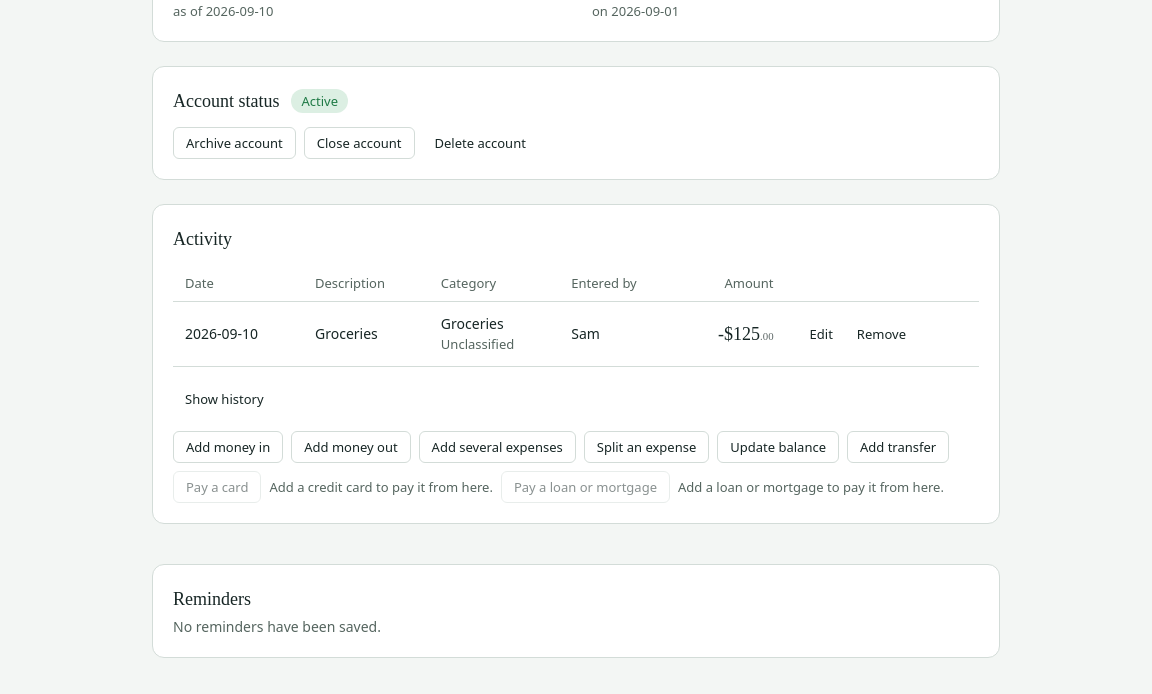
it: removing an entry › shows the server message and keeps the entry when removal is refused
(page scrolled)
Click the button with aria-label "Remove Groceries": (881, 334) [845, 318, 918, 350]
(page scrolled)
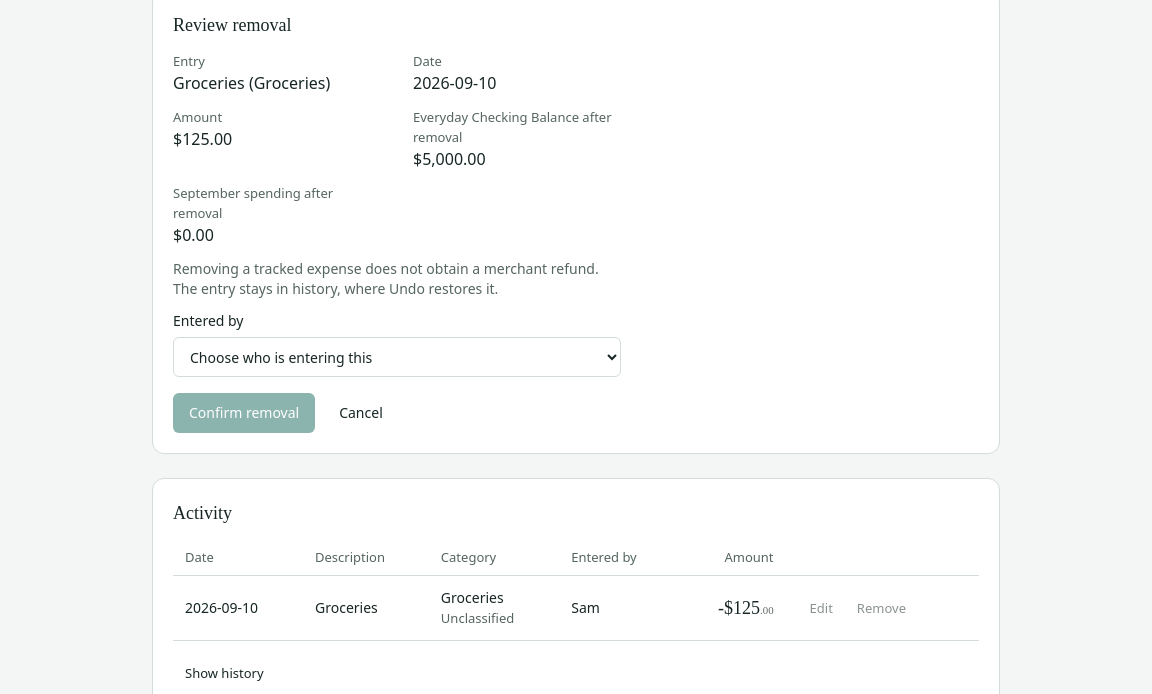
Check: the button "Confirm removal" is disabled, box [173, 393, 315, 433]
